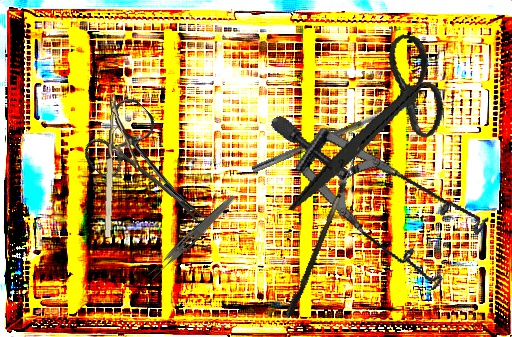Dressing Forceps: (145, 190, 238, 283)
Hook Surgical: (285, 144, 361, 318)
Iris Scissors: (287, 18, 457, 236), (73, 92, 234, 251)
Needle Holder: (100, 92, 145, 240)
Speculum: (269, 59, 506, 323)
Surgical Spoon: (251, 99, 412, 175)
